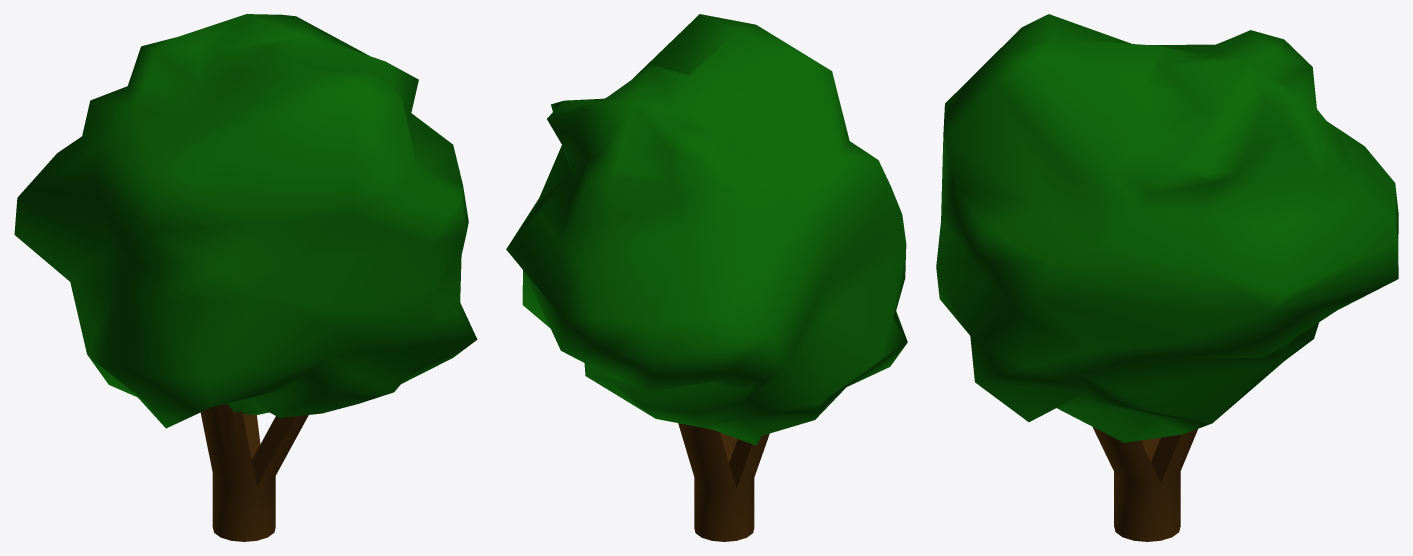
The model's file is Bush.fbx.
3 views of the same model, side by side, from view 1: azimuth 30°, elevation 25°; view 2: azimuth 150°, elevation 25°; view 3: azimuth 270°, elevation 25° (orthographic). The views are drawn at different scales.
Visible parts, largest first — view 1: Bush; view 2: Bush; view 3: Bush.
Part boxes in pixels (box(x1,y1,x2,y2)): Bush: box(14, 14, 477, 541); Bush: box(506, 14, 907, 541); Bush: box(936, 14, 1398, 541).
Size of the model in its own units: 6.15 by 8.34 by 6.92.
